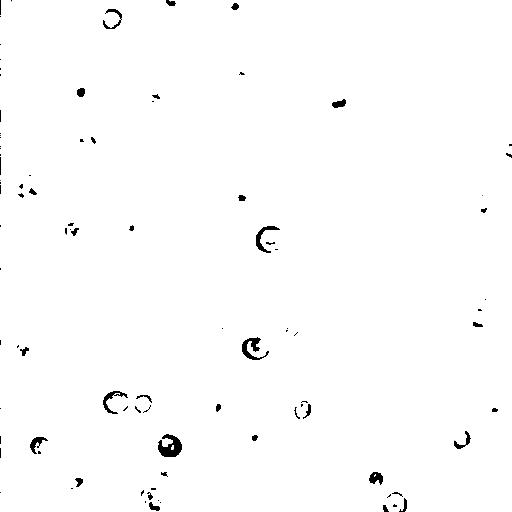micro-algae: (6, 65, 92, 153), (354, 51, 438, 131), (75, 416, 151, 494), (9, 366, 67, 423), (375, 471, 453, 511), (1, 123, 49, 184), (15, 474, 81, 512), (109, 374, 158, 420), (148, 313, 193, 360), (48, 0, 124, 27), (95, 350, 137, 391), (166, 351, 208, 390), (316, 84, 358, 119), (487, 97, 511, 154), (1, 185, 35, 223), (236, 0, 286, 25), (461, 192, 497, 226), (473, 393, 509, 427), (254, 223, 289, 255), (114, 210, 147, 243), (223, 61, 256, 93), (21, 170, 53, 203), (138, 484, 173, 511), (490, 74, 512, 114), (72, 128, 105, 154), (240, 336, 272, 361), (243, 418, 268, 449), (465, 283, 494, 309), (43, 203, 71, 229), (155, 434, 184, 459), (235, 491, 269, 512), (103, 390, 130, 415), (468, 163, 494, 188), (13, 340, 35, 368), (68, 81, 92, 106), (28, 435, 53, 459), (205, 395, 228, 421), (381, 490, 409, 511), (466, 305, 490, 329), (62, 220, 86, 243), (101, 8, 124, 31), (266, 90, 288, 113), (451, 428, 472, 451), (133, 393, 154, 415), (294, 400, 314, 421), (158, 0, 186, 13), (152, 467, 172, 484), (367, 470, 385, 488), (225, 0, 245, 16), (63, 475, 84, 490), (283, 321, 300, 339), (234, 190, 251, 205), (1, 435, 10, 462), (436, 68, 451, 84), (2, 22, 9, 52), (2, 0, 22, 7), (504, 142, 512, 157)
